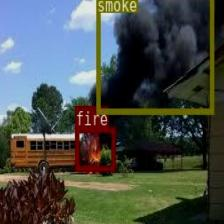fire: (74, 126, 114, 170)
smoke: (95, 0, 213, 112)
